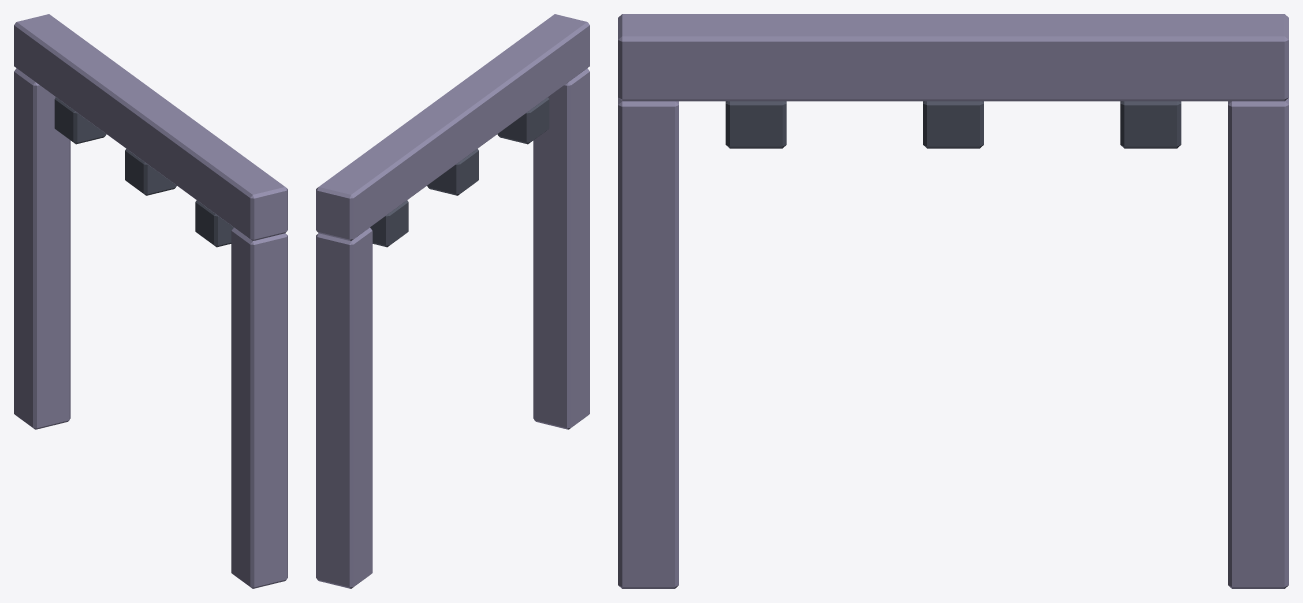
File: kalite.glb
3 renders of one model, left to right at view 1: azimuth 30°, elevation 25°; view 2: azimuth 150°, elevation 25°; view 3: azimuth 270°, elevation 25°, orthographic. The views are drawn at different scales.
Parts seen in each view (by area): view 1: KaliteKapisi; view 2: KaliteKapisi; view 3: KaliteKapisi.
Boxes of the visible parts, box(x1,y1,x2,y2) form: KaliteKapisi: box(14, 14, 287, 588); KaliteKapisi: box(316, 14, 589, 588); KaliteKapisi: box(618, 14, 1288, 588).
Size of the model in its own units: 0.442 by 4.42 by 4.86.
